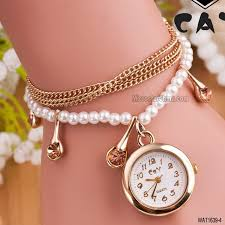clock: (129, 151, 189, 209)
